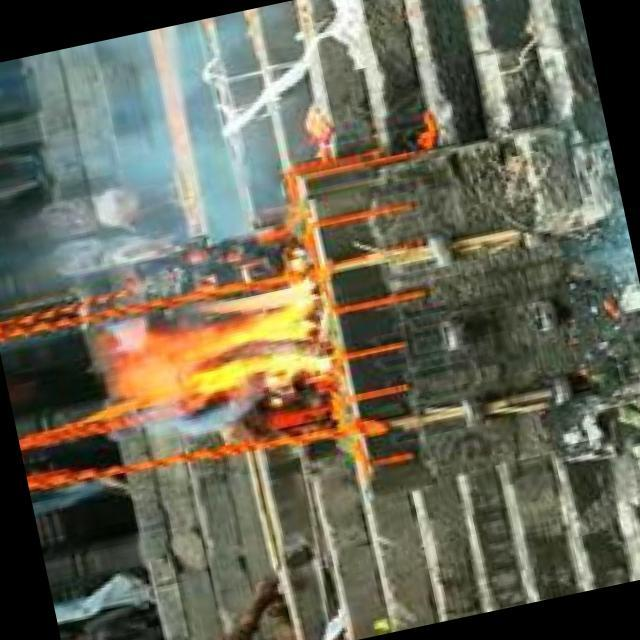Fire: (100, 261, 343, 419)
